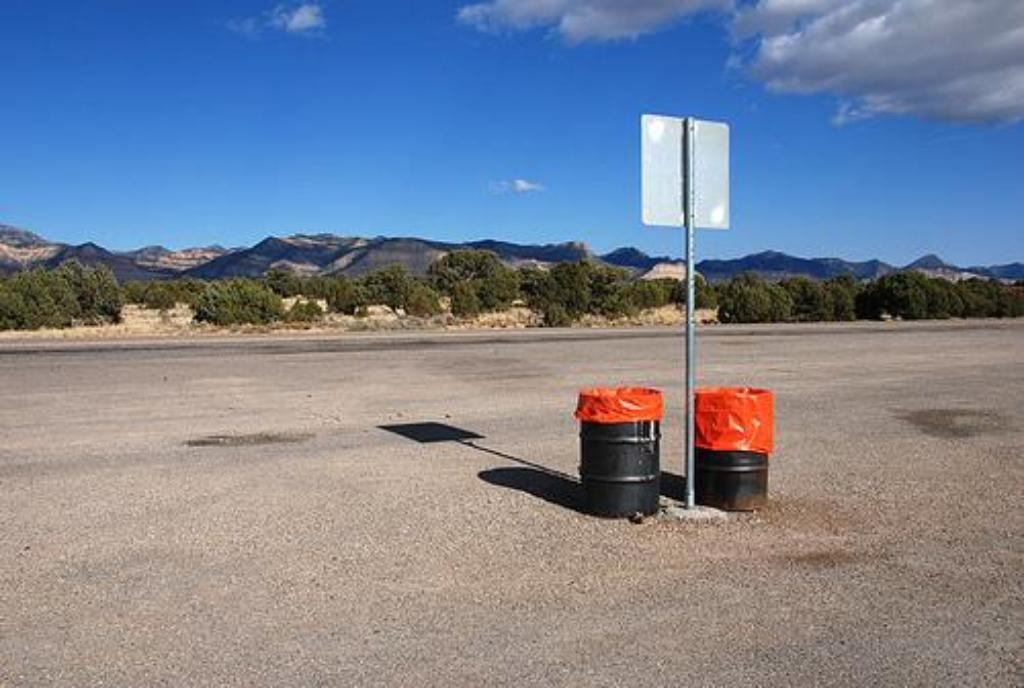dustbin: (574, 383, 670, 520), (690, 382, 779, 514)
